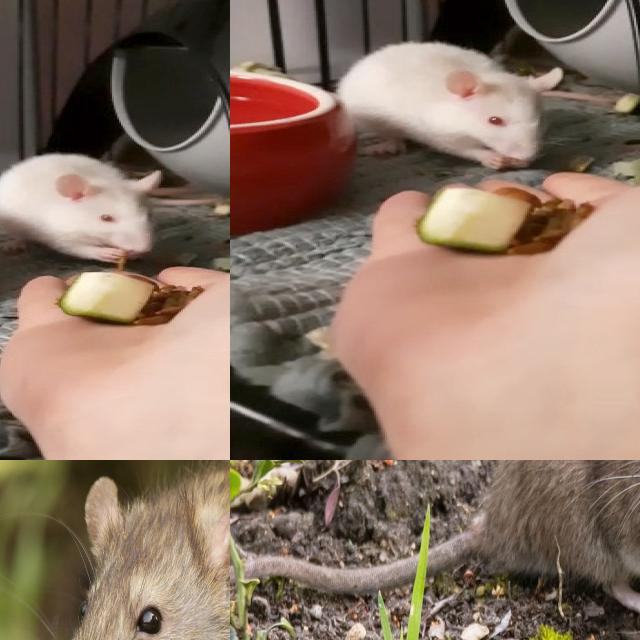rat: (405, 460, 640, 640), (330, 37, 568, 172), (58, 460, 230, 640), (0, 148, 170, 265)
